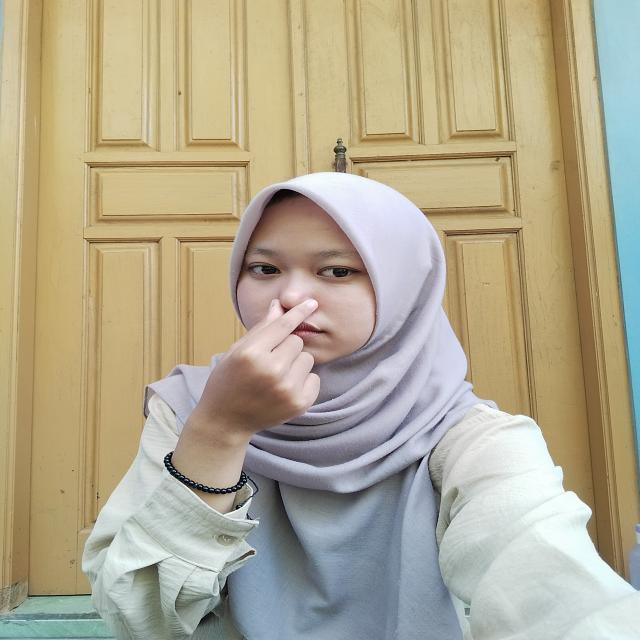bau: (196, 284, 347, 432)
